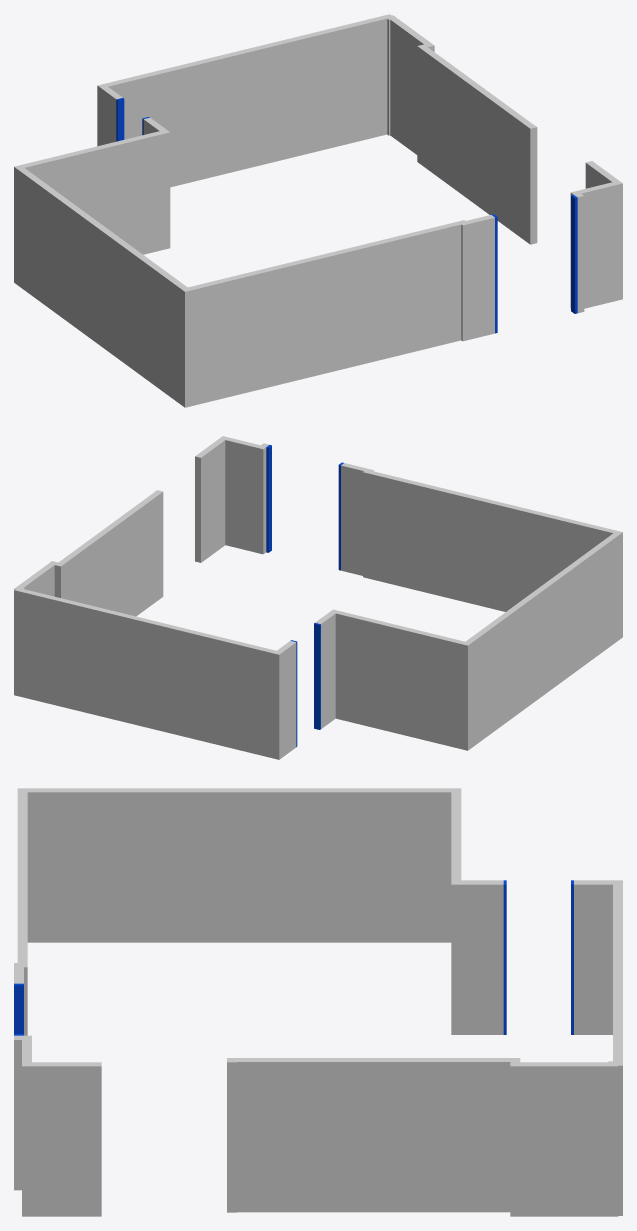
3 renders of one model, top to bottom at view 1: azimuth 30°, elevation 25°; view 2: azimuth 150°, elevation 25°; view 3: azimuth 270°, elevation 25°, orthographic. The views are drawn at different scales.
Visible parts, largest first — view 1: Plane; view 2: Plane; view 3: Plane.
Boxes of the visible parts, x1,y1,x2,y2 form: Plane: [14, 14, 622, 407]; Plane: [14, 436, 622, 759]; Plane: [14, 788, 622, 1216].
Bounding box in the file's own units: 9.92 × 9.18 × 2.5.
